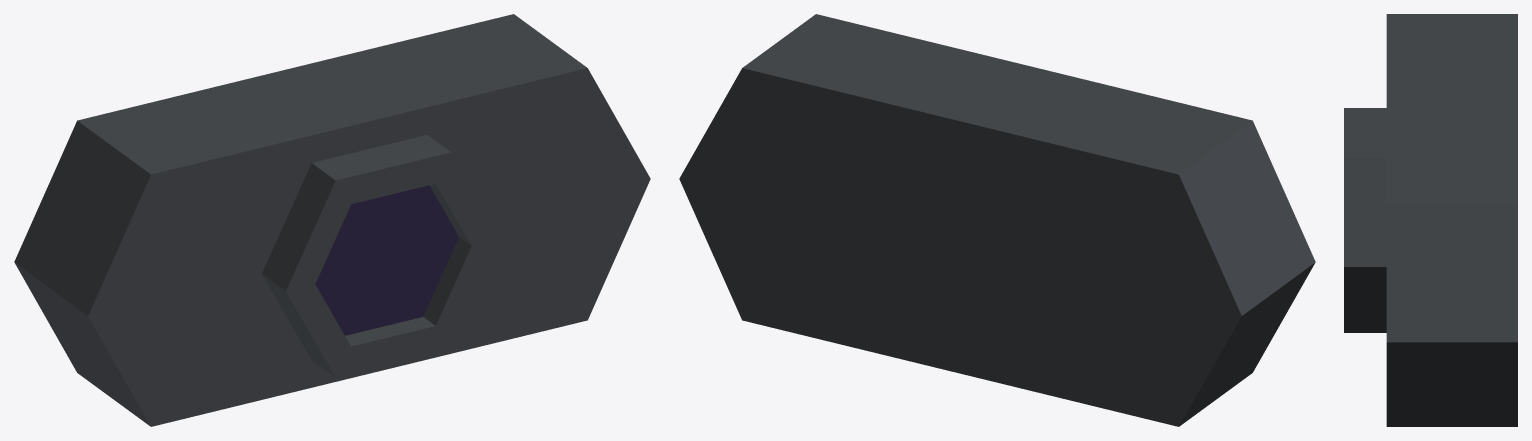
Rendered from SM_Prop_Webcam_01.glb.
3 views of the same model, side by side, from view 1: azimuth 30°, elevation 25°; view 2: azimuth 150°, elevation 25°; view 3: azimuth 270°, elevation 25° (orthographic). The views are drawn at different scales.
Visible parts, largest first — view 1: SM_Prop_Webcam_01; view 2: SM_Prop_Webcam_01; view 3: SM_Prop_Webcam_01.
Part boxes in pixels (left/top/right/bottom): SM_Prop_Webcam_01: left=14, top=14, right=650, bottom=426; SM_Prop_Webcam_01: left=679, top=14, right=1315, bottom=426; SM_Prop_Webcam_01: left=1344, top=14, right=1517, bottom=426.
Size of the model in its own units: 0.1288 by 0.0552 by 0.0389.
Materials: 1 (1 with a texture image).
